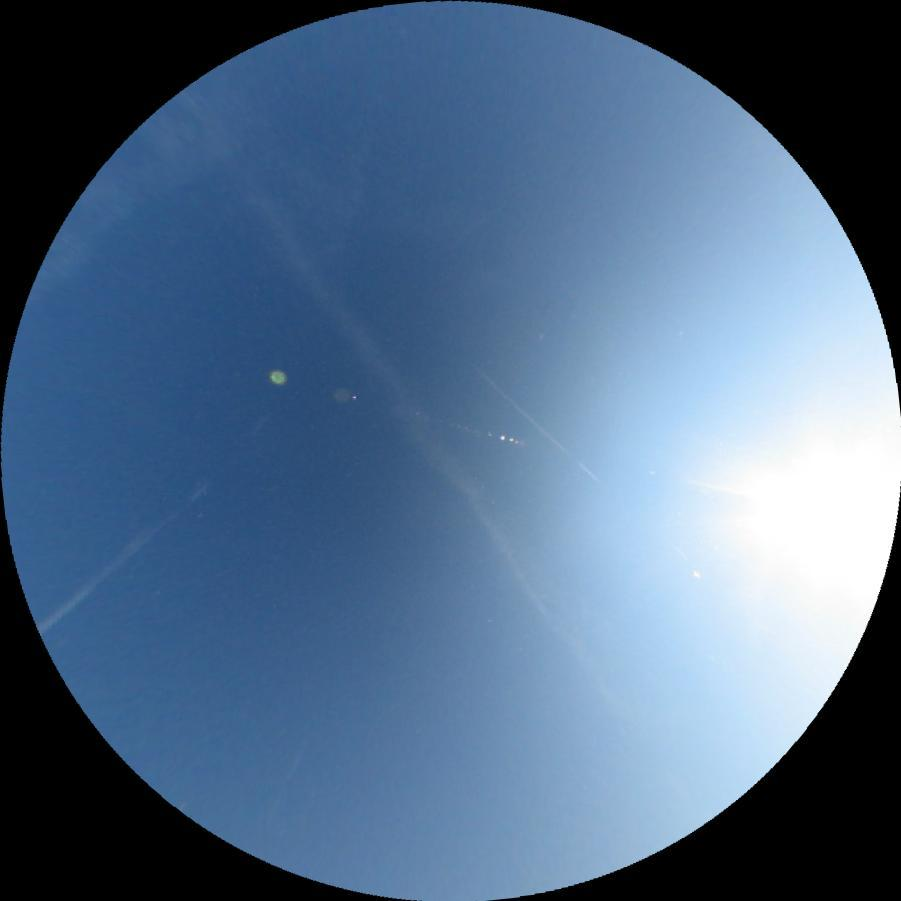contrail old: (473, 364, 690, 566)
contrail veryold: (176, 78, 641, 726), (33, 457, 231, 636)
sun: (724, 402, 901, 631)
